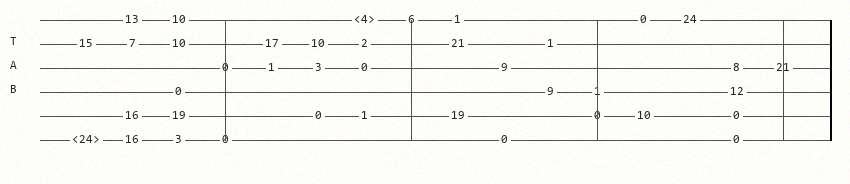0: (175, 86, 186, 98), (222, 62, 233, 74), (222, 134, 233, 146), (315, 110, 326, 122), (361, 62, 372, 74), (501, 134, 512, 146), (594, 110, 605, 122), (640, 14, 651, 26), (733, 134, 744, 146), (733, 110, 744, 122)
1: (268, 62, 279, 74), (361, 110, 372, 122), (454, 14, 465, 26), (547, 38, 558, 50), (594, 86, 605, 98)
10: (172, 14, 190, 26), (172, 38, 190, 50), (311, 38, 329, 50), (637, 110, 655, 122)
12: (730, 86, 748, 98)
13: (125, 14, 143, 26)
15: (79, 38, 97, 50)
16: (125, 110, 143, 122), (125, 134, 143, 146)
17: (265, 38, 283, 50)
19: (172, 110, 190, 122), (451, 110, 469, 122)
2: (361, 38, 372, 50)
21: (451, 38, 469, 50), (776, 62, 794, 74)
24: (683, 14, 701, 26)
3: (175, 134, 186, 146), (315, 62, 326, 74)
6: (408, 14, 419, 26)
7: (129, 38, 140, 50)
8: (733, 62, 744, 74)
9: (501, 62, 512, 74), (547, 86, 558, 98)
harmonic: (72, 134, 104, 146), (354, 14, 379, 26)
